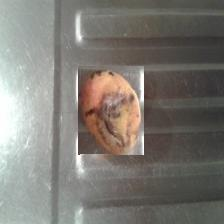Mango Semirotten: (78, 67, 144, 156)
